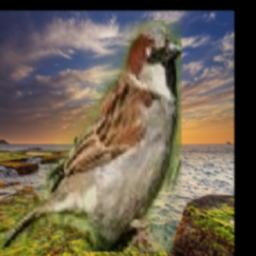Sparrow: (0, 20, 183, 252)
